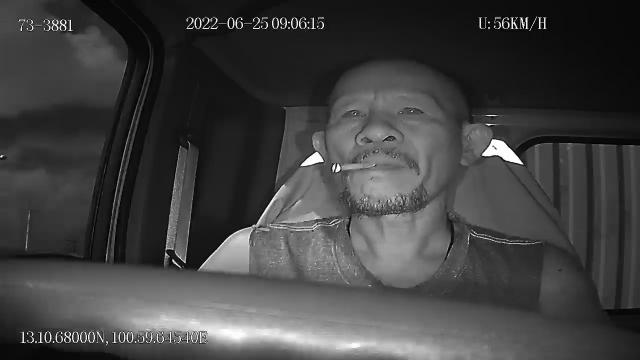SafeDriving: (391, 95, 431, 124), (336, 101, 371, 126)
Smoking: (332, 162, 376, 170)
